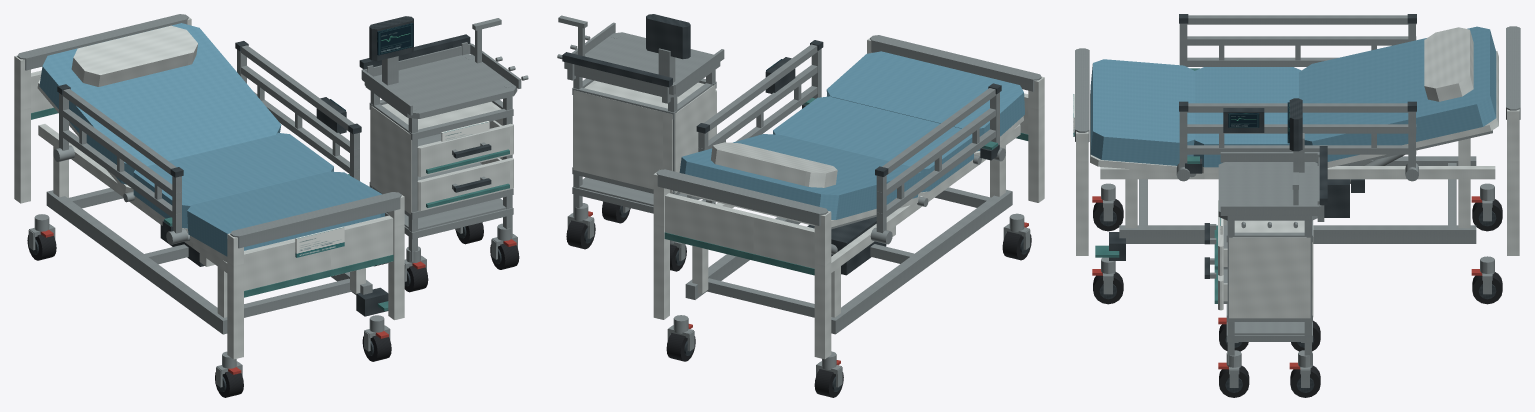
Rendered from PZ_LUCENT_HospitalBed_And_Trolley_REFERENCE.glb.
3 views of the same model, side by side, from view 1: azimuth 30°, elevation 25°; view 2: azimuth 150°, elevation 25°; view 3: azimuth 270°, elevation 25° (orthographic).
Visible parts, largest first — view 1: BED_Backrest_Mattress, BED_Vinyl_SeatCushion, BED_FootSection_Mattress, TROLLEY_Stainless_Worktop, BED_FootBoard_FillPanel, BED_HeadPillow, BED_Chassis_LongBeam_L, BED_FootBoard_TopGrip, TROLLEY_CabinetSide_L, TROLLEY_BOTTOM_DrawerFront, TROLLEY_TOP_DrawerFront, BED_HeadBoard_Post_L (+43 smaller); view 2: BED_FootSection_Mattress, BED_Backrest_Mattress, TROLLEY_CabinetBack, BED_Vinyl_SeatCushion, BED_HeadBoard_FillPanel, BED_Chassis_LongBeam_L, BED_HeadBoard_TopGrip, BED_HeadPillow, TROLLEY_Stainless_Worktop, BED_FootBoard_TopGrip, BED_HeadBoard_Post_L, BED_HeadBoard_Post_R (+35 smaller); view 3: BED_Backrest_Mattress, BED_FootSection_Mattress, TROLLEY_CabinetSide_R, BED_Vinyl_SeatCushion, BED_Chassis_LongBeam_R, TROLLEY_Stainless_Worktop, BED_HeadPillow, BED_Deck_LongExtrusion_R, BED_LEFT_SideRail_TopTube, BED_LEFT_SideRail_MidTube, BED_HeadBoard_Post_R, BED_RIGHT_SideRail_TopTube (+36 smaller).
Part boxes in pixels (bbox=[...]): BED_Backrest_Mattress: bbox=[39, 23, 281, 184]; BED_Vinyl_SeatCushion: bbox=[133, 133, 333, 228]; BED_FootSection_Mattress: bbox=[187, 171, 384, 256]; TROLLEY_Stainless_Worktop: bbox=[365, 54, 517, 118]; BED_FootBoard_FillPanel: bbox=[244, 215, 393, 295]; BED_HeadPillow: bbox=[71, 25, 197, 86]; BED_Chassis_LongBeam_L: bbox=[46, 190, 227, 334]; BED_FootBoard_TopGrip: bbox=[230, 192, 401, 248]; TROLLEY_CabinetSide_L: bbox=[370, 105, 411, 214]; TROLLEY_BOTTOM_DrawerFront: bbox=[417, 158, 513, 210]; TROLLEY_TOP_DrawerFront: bbox=[417, 123, 513, 176]; BED_HeadBoard_Post_L: bbox=[14, 55, 30, 203]; BED_FootSection_Mattress: bbox=[826, 51, 1024, 151]; BED_Backrest_Mattress: bbox=[679, 134, 920, 219]; TROLLEY_CabinetBack: bbox=[573, 90, 672, 193]; BED_Vinyl_SeatCushion: bbox=[773, 96, 973, 192]; BED_HeadBoard_FillPanel: bbox=[665, 193, 814, 274]; BED_Chassis_LongBeam_L: bbox=[831, 189, 1012, 334]; BED_HeadBoard_TopGrip: bbox=[656, 169, 828, 225]; BED_HeadPillow: bbox=[711, 142, 837, 187]; TROLLEY_Stainless_Worktop: bbox=[574, 32, 720, 97]; BED_FootBoard_TopGrip: bbox=[870, 35, 1041, 91]; BED_HeadBoard_Post_L: bbox=[814, 211, 831, 359]; BED_HeadBoard_Post_R: bbox=[653, 172, 669, 319]; BED_Backrest_Mattress: bbox=[1299, 26, 1496, 162]; BED_FootSection_Mattress: bbox=[1090, 59, 1195, 165]; TROLLEY_CabinetSide_R: bbox=[1229, 237, 1310, 318]; BED_Vinyl_SeatCushion: bbox=[1193, 67, 1301, 167]; BED_Chassis_LongBeam_R: bbox=[1119, 225, 1476, 243]; TROLLEY_Stainless_Worktop: bbox=[1218, 162, 1318, 220]; BED_HeadPillow: bbox=[1424, 27, 1473, 101]; BED_Deck_LongExtrusion_R: bbox=[1100, 166, 1495, 179]; BED_LEFT_SideRail_TopTube: bbox=[1187, 15, 1416, 24]; BED_LEFT_SideRail_MidTube: bbox=[1187, 36, 1416, 45]; BED_HeadBoard_Post_R: bbox=[1507, 109, 1519, 255]; BED_RIGHT_SideRail_TopTube: bbox=[1187, 103, 1416, 112].
Bounding box in the file's own units: 2.26 × 1.35 × 2.23.
9 materials, 9 textured.
